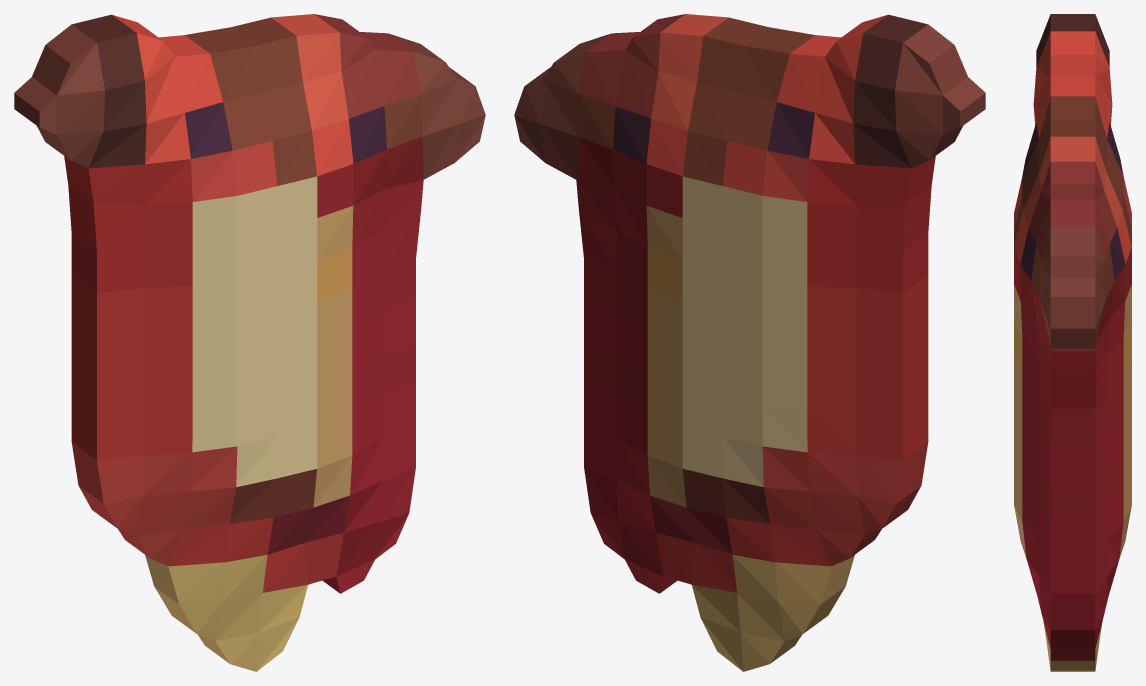
Rendered from hanging_banner.glb.
The picture shows the model from 3 angles, left to right: view 1: azimuth 30°, elevation 25°; view 2: azimuth 150°, elevation 25°; view 3: azimuth 270°, elevation 25°; orthographic projection. The views are drawn at different scales.
Parts seen in each view (by area): view 1: hanging_banner; view 2: hanging_banner; view 3: hanging_banner.
Part boxes in pixels (x1,y1,x2,y2): hanging_banner: (14, 14, 485, 671); hanging_banner: (514, 14, 985, 671); hanging_banner: (1014, 14, 1131, 671).
Size of the model in its own units: 0.6991 by 1 by 0.1813.
Materials: 1 (1 with a texture image).
